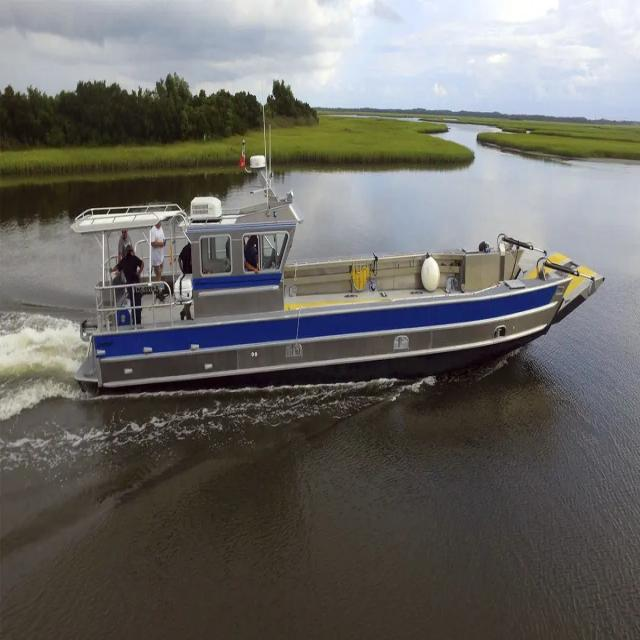houseboat: (71, 179, 590, 396)
